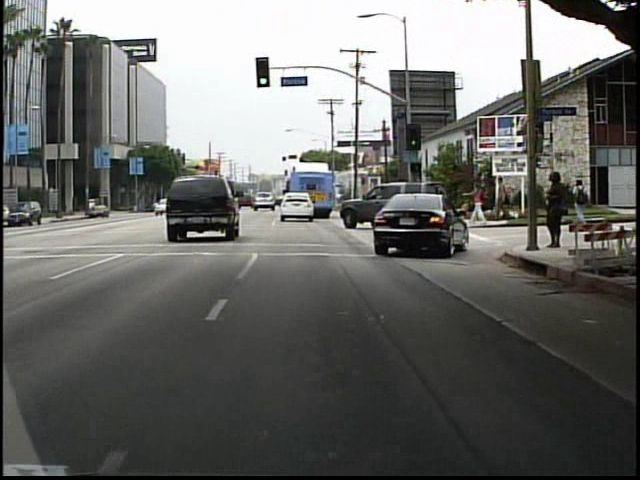person: (540, 169, 566, 255), (466, 178, 491, 228), (570, 175, 591, 225), (493, 176, 511, 222)
